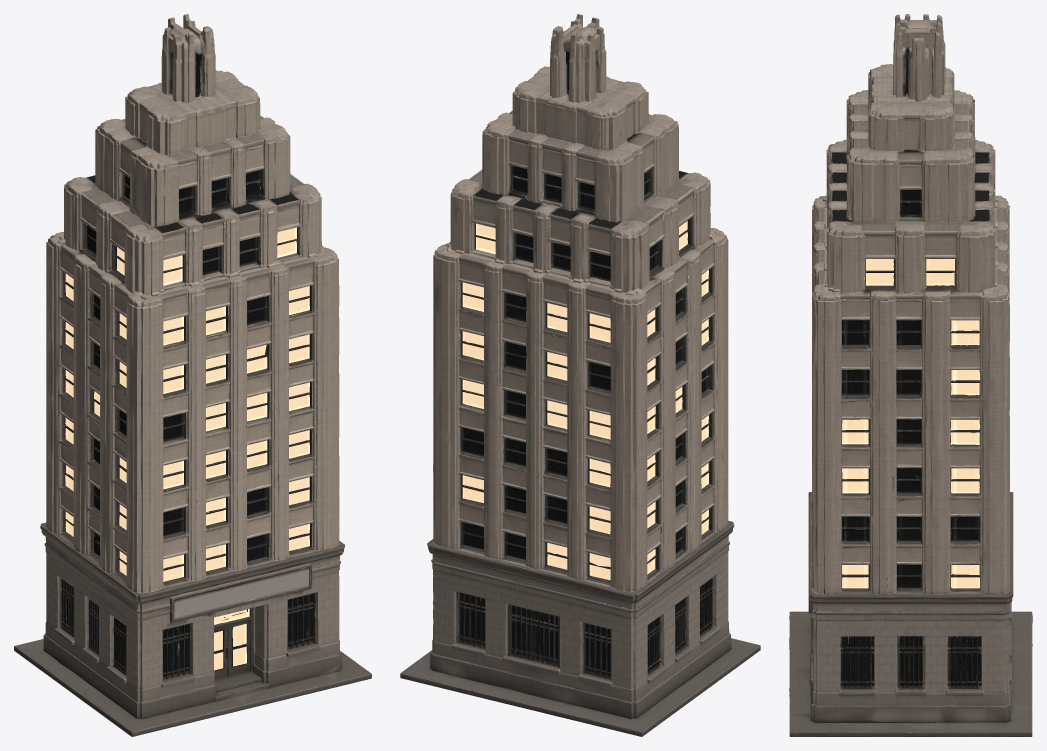
The model's file is tower-deco-setback.glb.
3 renders of one model, left to right at view 1: azimuth 30°, elevation 25°; view 2: azimuth 150°, elevation 25°; view 3: azimuth 270°, elevation 25°, orthographic. The views are drawn at different scales.
Parts seen in each view (by area): view 1: tower-deco-setback; view 2: tower-deco-setback; view 3: tower-deco-setback.
Part boxes in pixels (x1,y1,x2,y2): tower-deco-setback: (14,14,371,736); tower-deco-setback: (400,14,760,736); tower-deco-setback: (789,14,1032,736).
Bounding box in the file's own units: 17.7 × 45 × 15.07.
3 materials, 3 textured.
